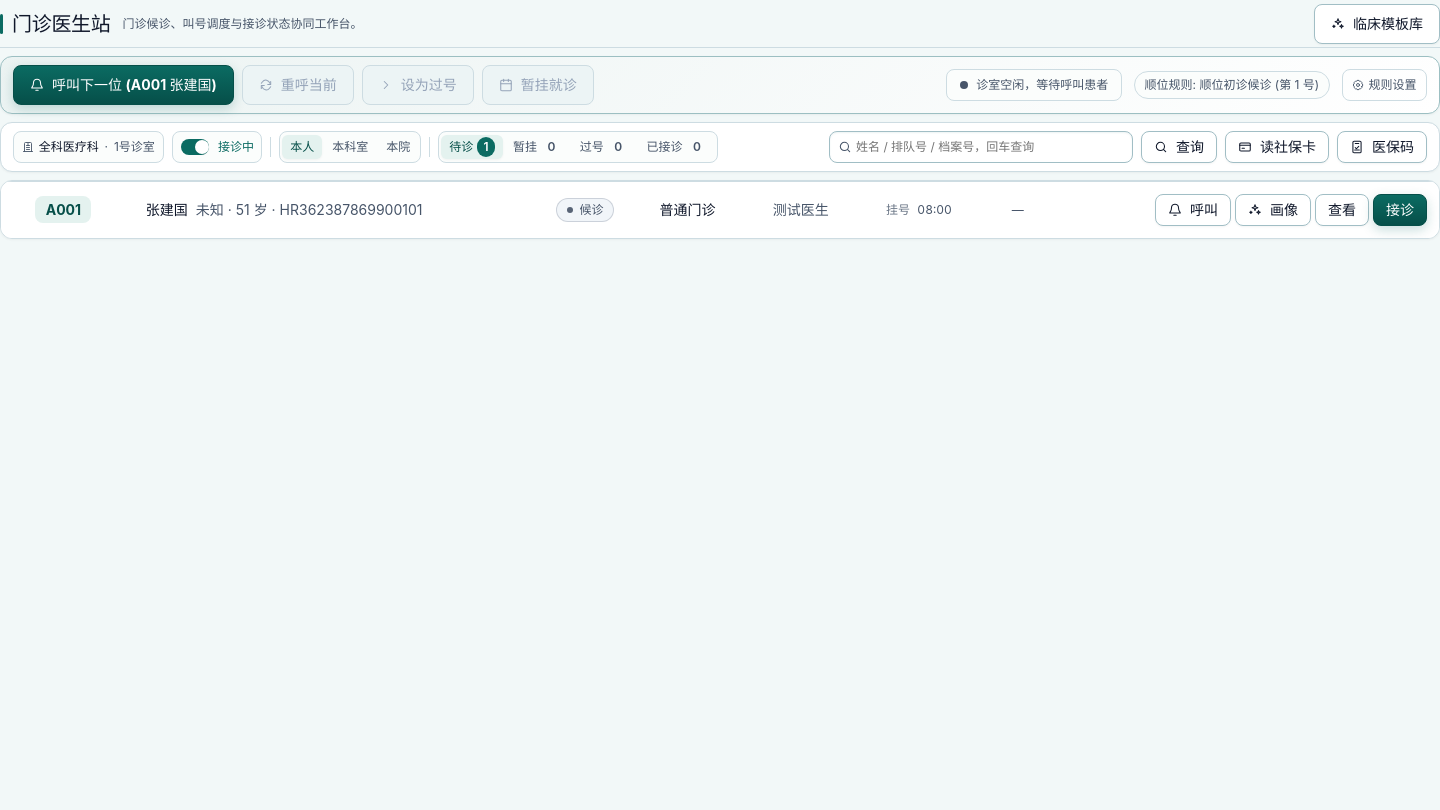
does not stage cached template content when the use receipt is empty
Click the button with aria-label "接诊 张建国" at (1400, 210), box [1373, 194, 1427, 226]
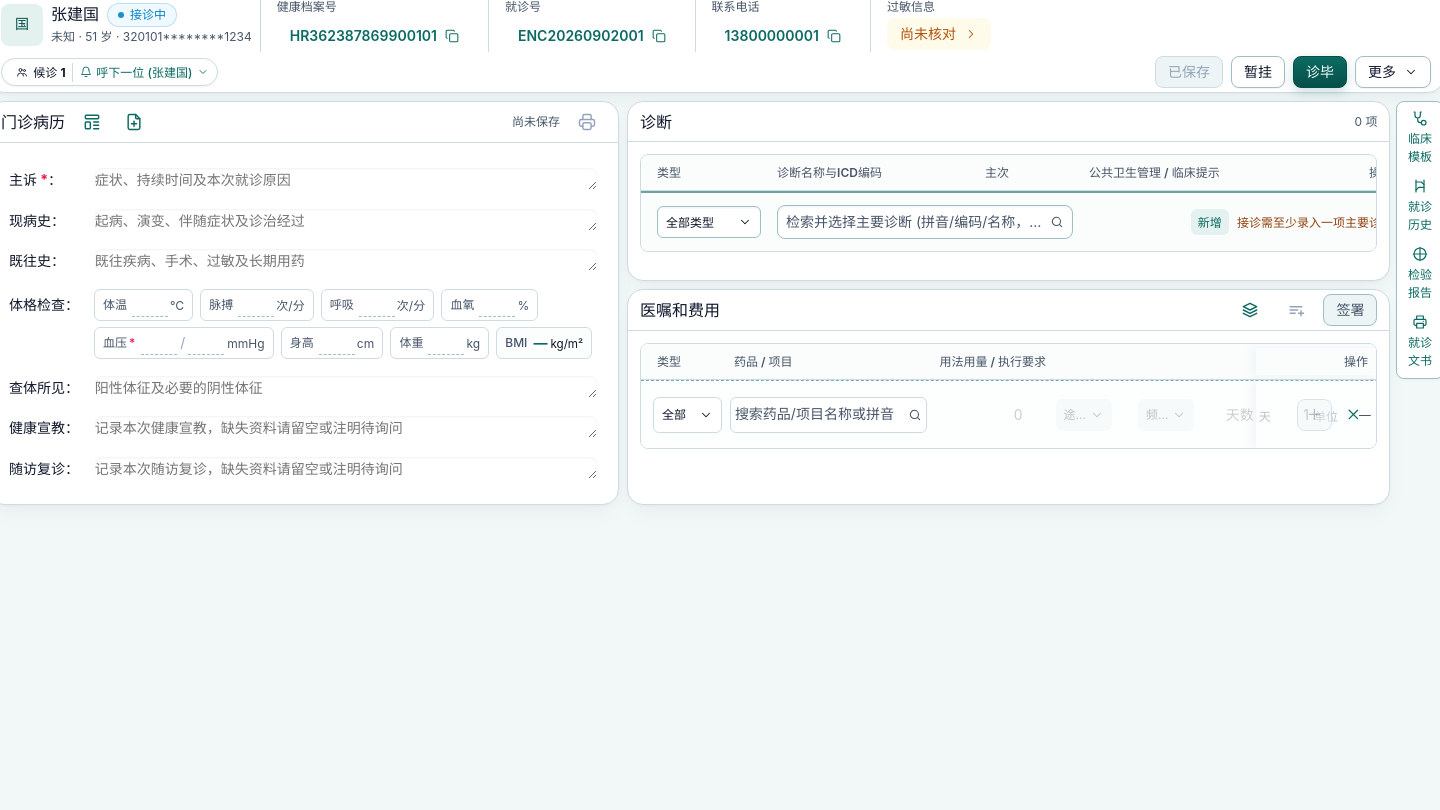
Click the button with aria-label "临床模板" at (1420, 138), box [1400, 105, 1439, 171]
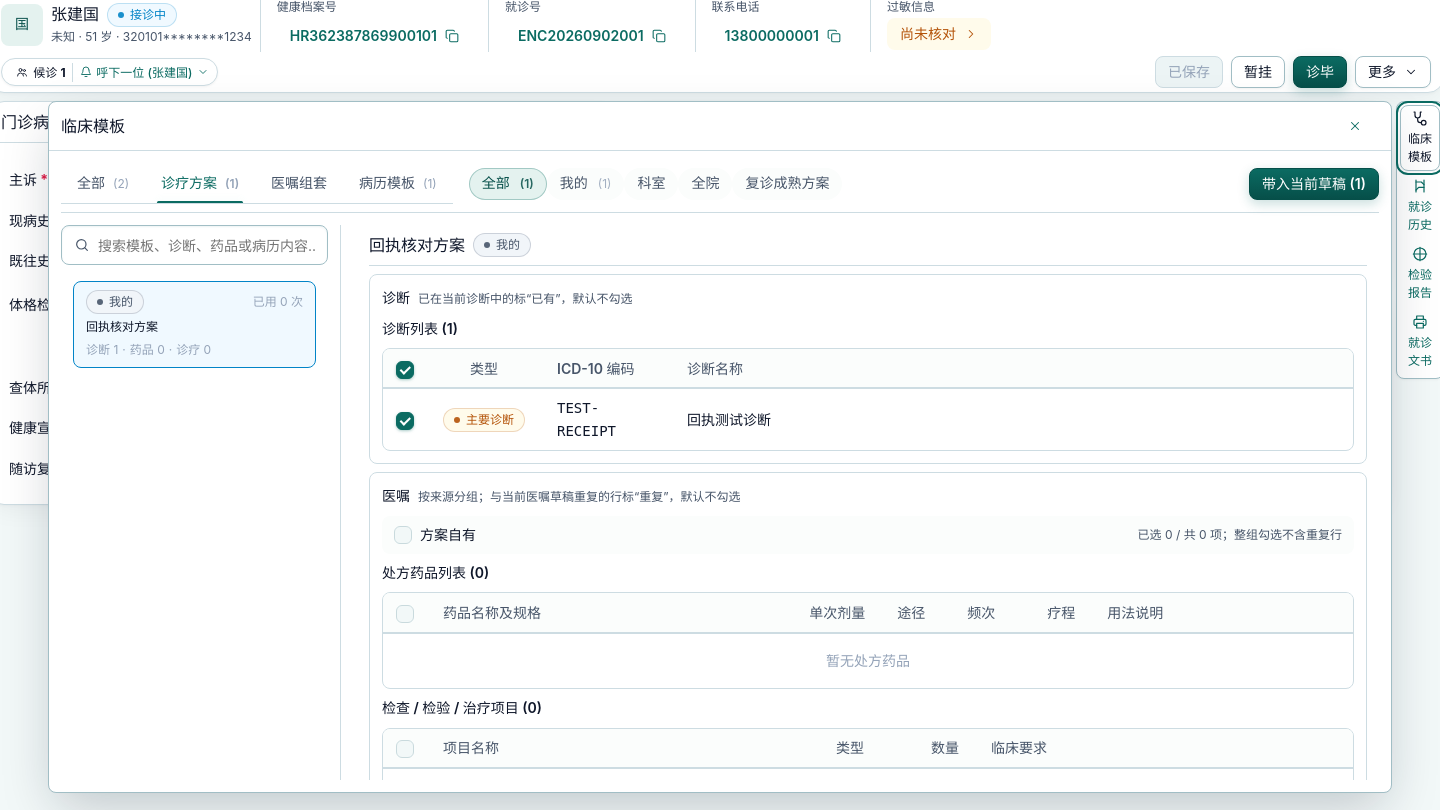
Click the button "带入当前草稿 (1)" at (1314, 184), box [1249, 168, 1379, 200]
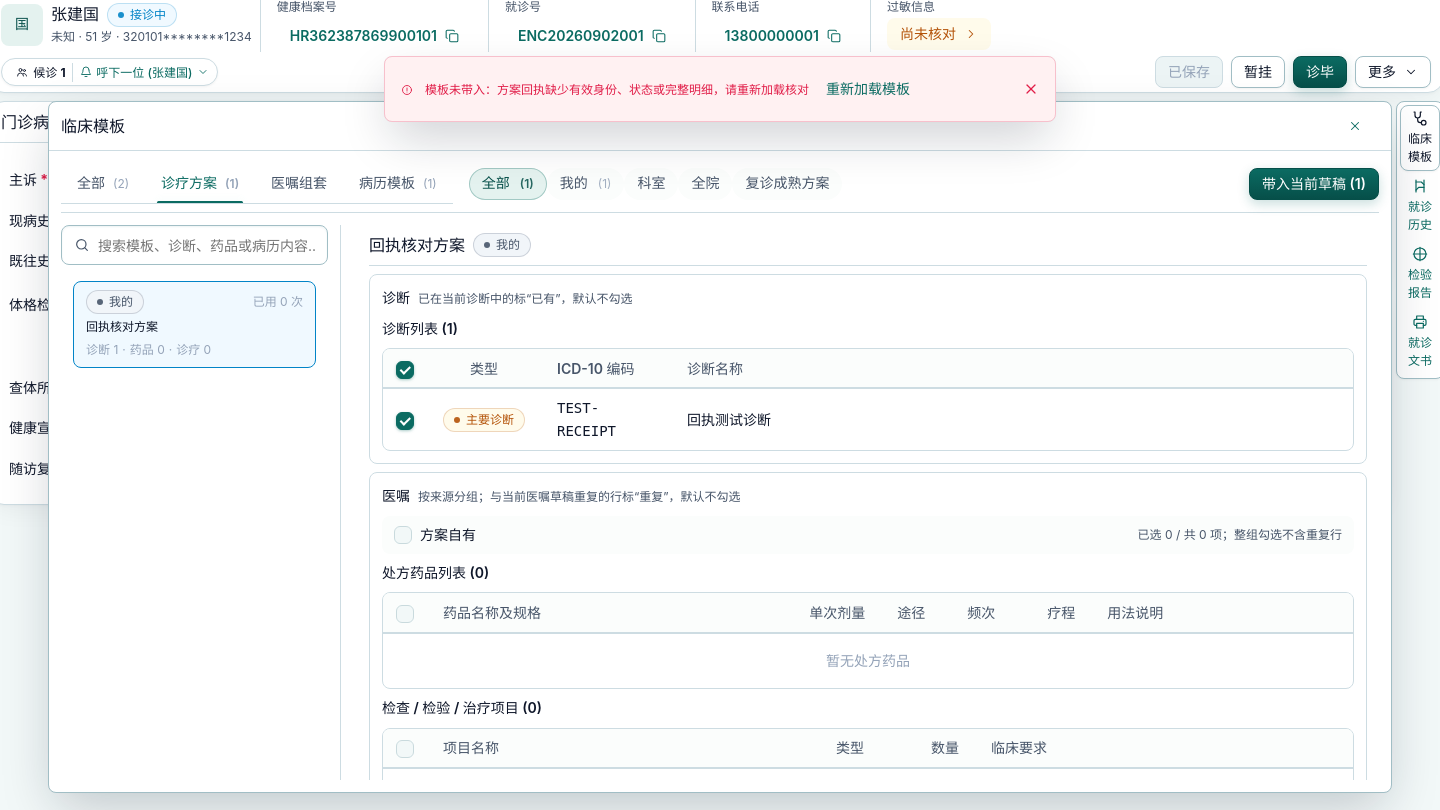
Expected: the checkbox named "选择诊断 回执测试诊断" is checked, [396, 412, 414, 430]
Expected: the message shows "模板未带入", [425, 82, 809, 97]
Click the button named "关闭扩展工具" at (1355, 126), box [1331, 106, 1379, 146]
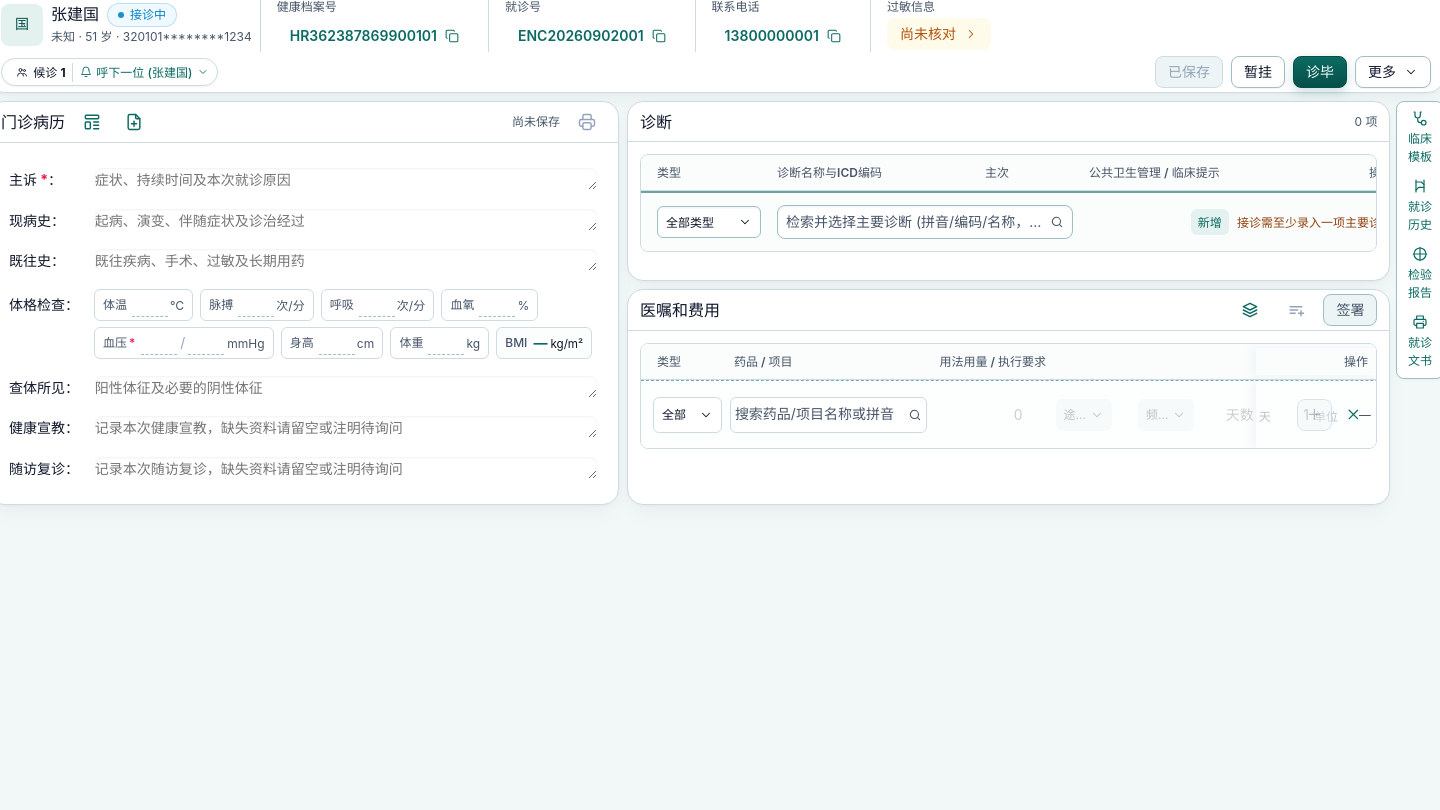
Expected: the text "回执测试诊断" is gone
